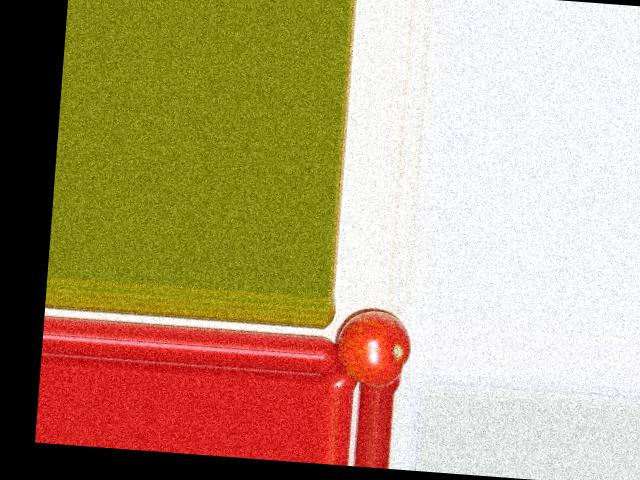tomato: (333, 307, 413, 389)
